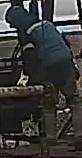gloves: (17, 70, 30, 88)
vest: (17, 20, 77, 71)
